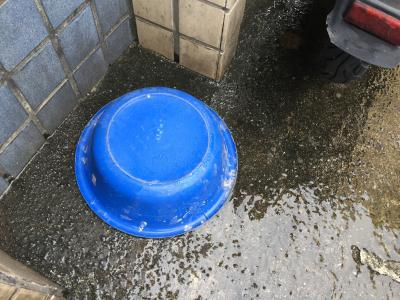bowl: (71, 83, 242, 242)
